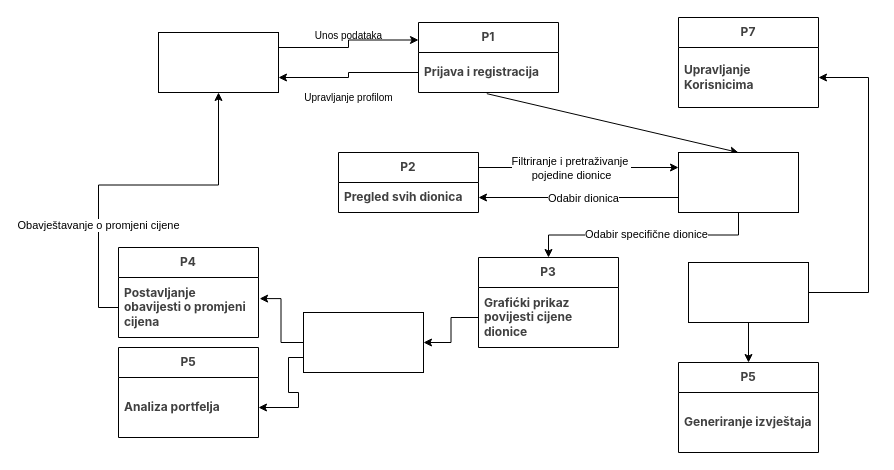
Some shapes in this 894 by 470 pixel diagram are drawn without their labels. The centre of each missing label's shape, as x and y in pixels:
Administrator sustava: the point at 748,292
Korisnik: the point at 218,62
Obavijesti i analitika: the point at 363,342
Tržište dionica: the point at 738,182
